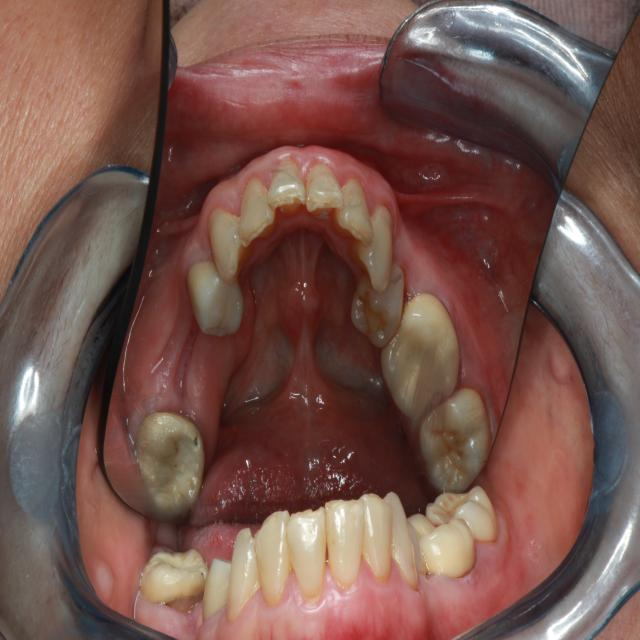tooth: (379, 287, 463, 430), (414, 386, 498, 499), (132, 403, 208, 526), (181, 248, 251, 345), (348, 260, 410, 354), (347, 200, 398, 295), (204, 198, 252, 289), (333, 170, 377, 254), (303, 155, 348, 228), (238, 174, 279, 251), (264, 156, 309, 221)
